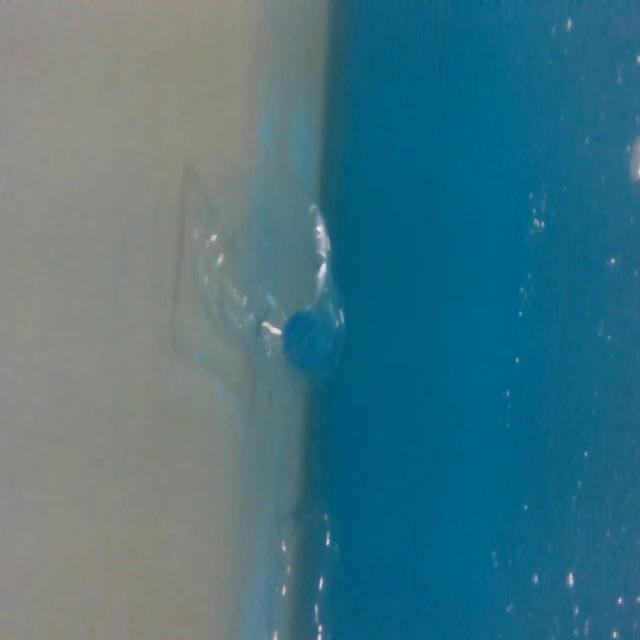plastic bottle: (195, 175, 361, 379), (257, 494, 343, 640)
